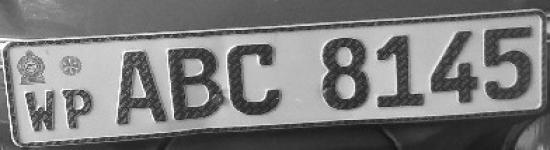1: (375, 29, 428, 110)
4: (426, 27, 482, 110)
5: (484, 21, 535, 105)
8: (314, 34, 372, 115)
A: (108, 46, 169, 127)
B: (167, 44, 226, 124)
C: (225, 34, 285, 120)
P: (57, 84, 95, 133)
W: (20, 87, 59, 136)
